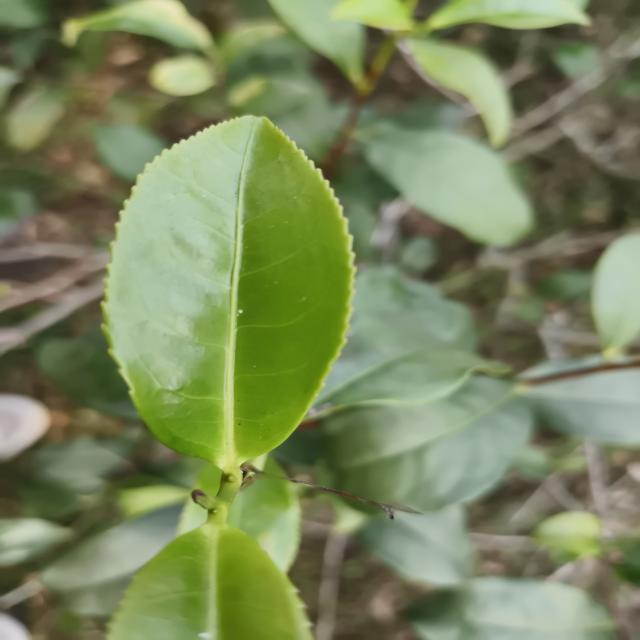Leaf: (103, 116, 354, 467), (321, 376, 534, 512), (313, 266, 507, 412), (107, 519, 313, 640), (363, 123, 533, 246), (40, 506, 182, 617), (406, 577, 613, 640), (404, 38, 512, 146), (35, 323, 139, 419), (358, 506, 474, 588), (525, 371, 640, 445), (268, 0, 365, 86), (62, 0, 214, 53), (591, 233, 640, 355), (426, 0, 589, 29), (94, 125, 166, 182), (331, 0, 413, 30)
